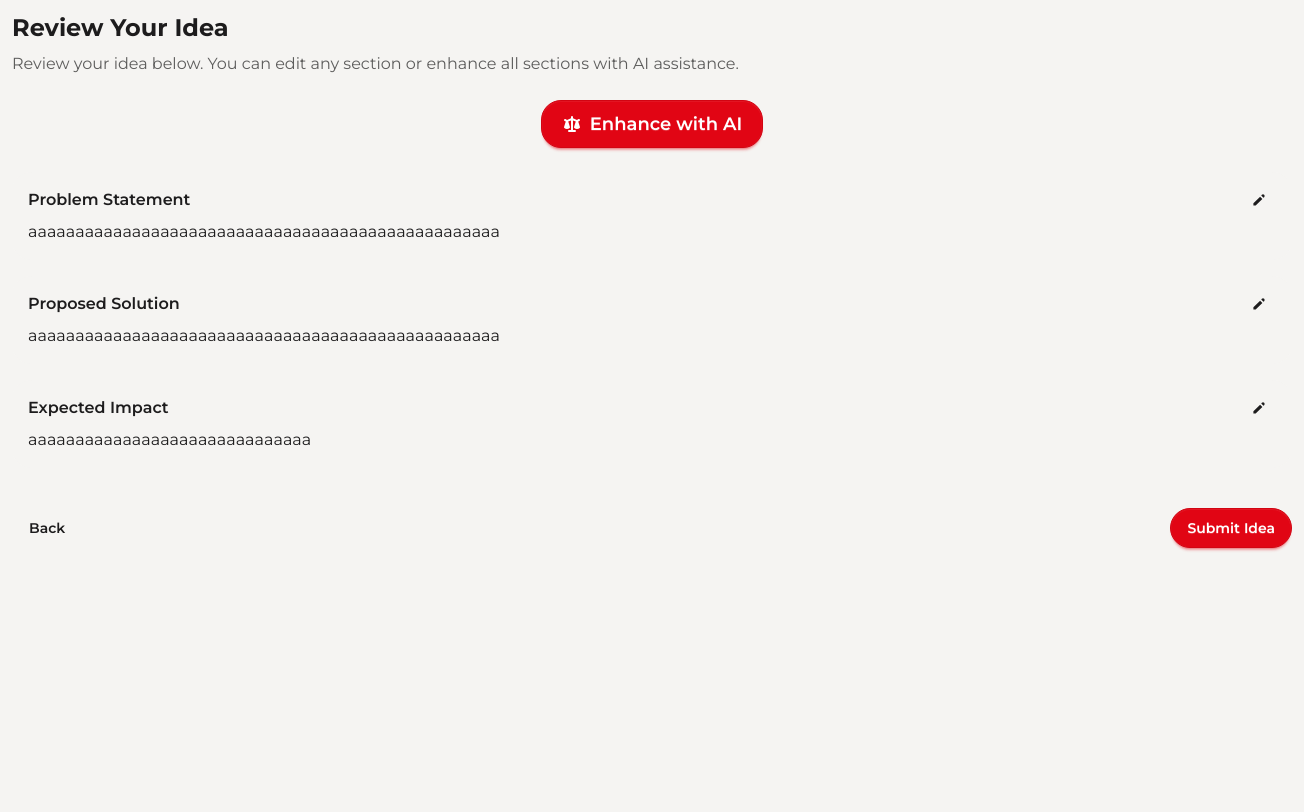
Test: StepReview › Edit Capability (AC: 3) › clicking edit button shows textarea for editing
Click the button with test id "edit-button-problem" at (1259, 200), box [1242,188,1276,212]
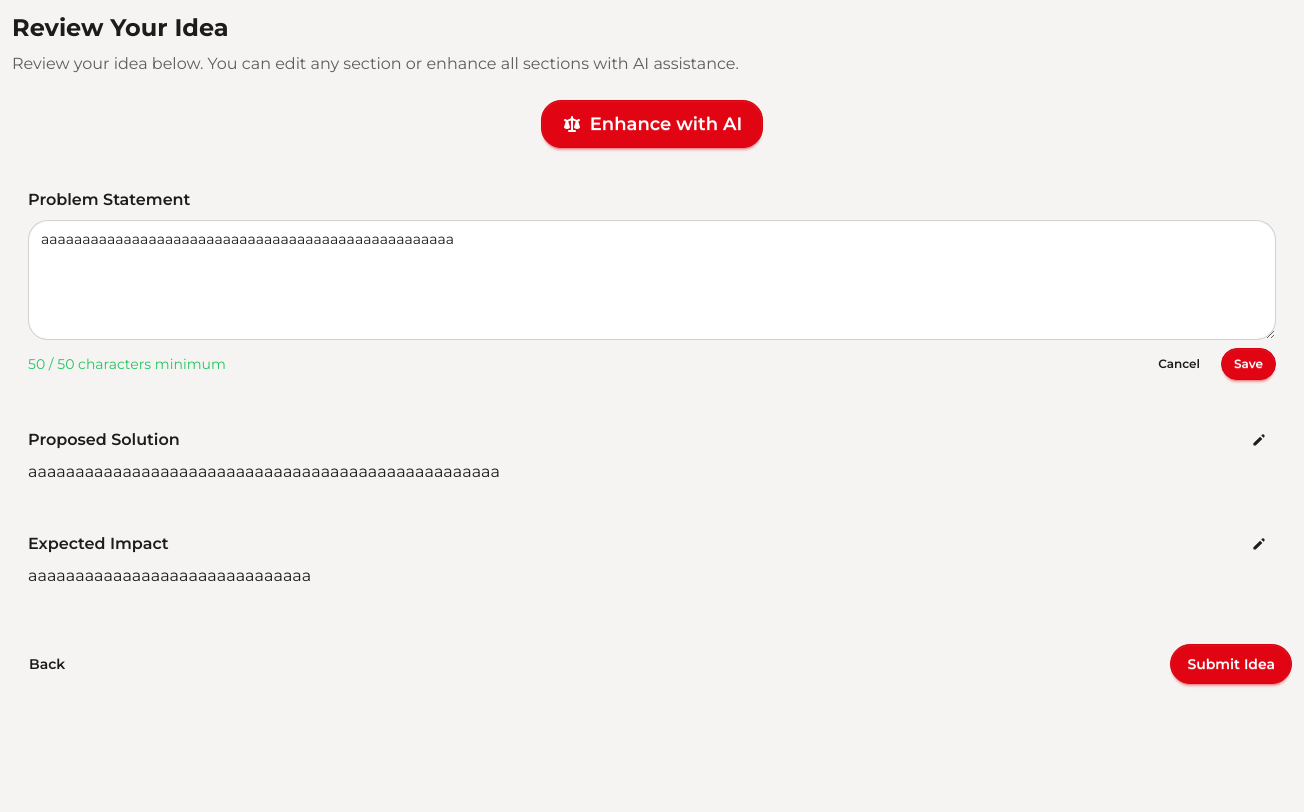
Expected: the text box with test id "edit-textarea-problem" is shown, [28,220,1276,340]
